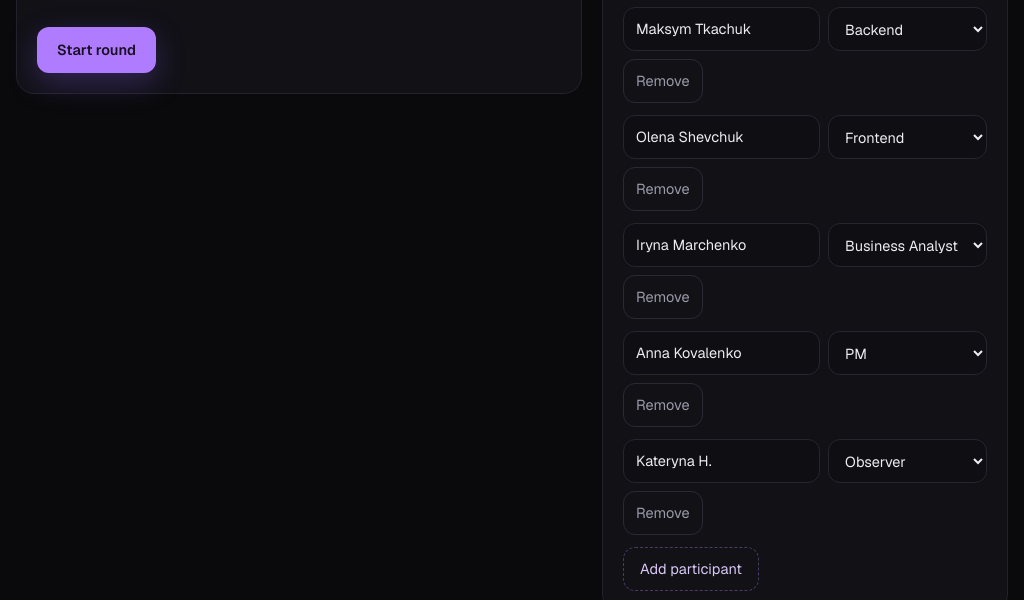
Test: an Observer is configured without a role › keeps an added Observer out of the voting
The width and height of the screenshot is (1024, 600).
(page scrolled)
Click the button "Add participant": [691, 569] box [623,547,759,591]
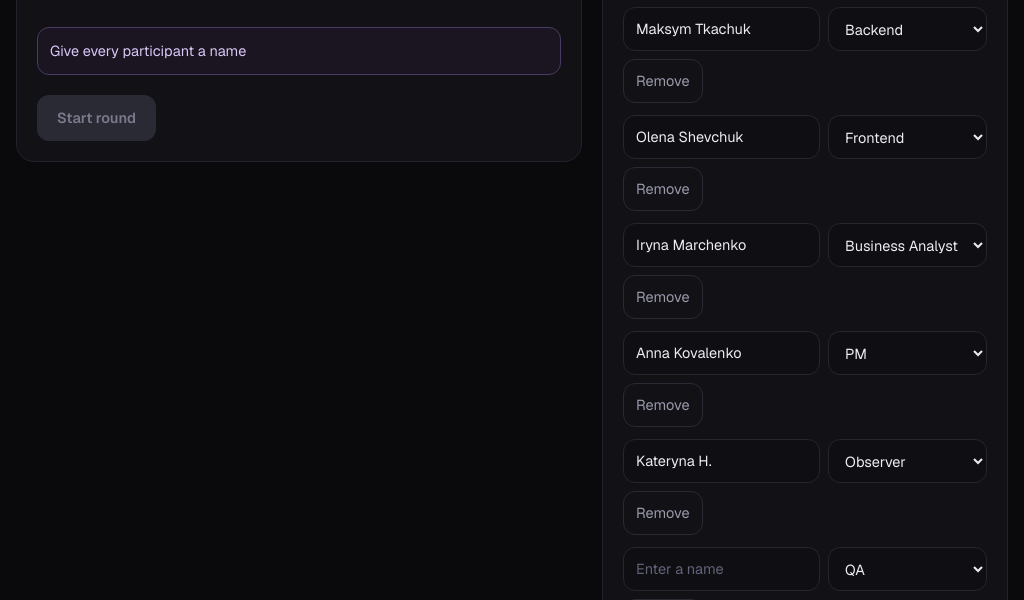
In the field with placeholder "Enter a name": [722, 569] box [623,547,820,591], type "Ivan Petrenko"
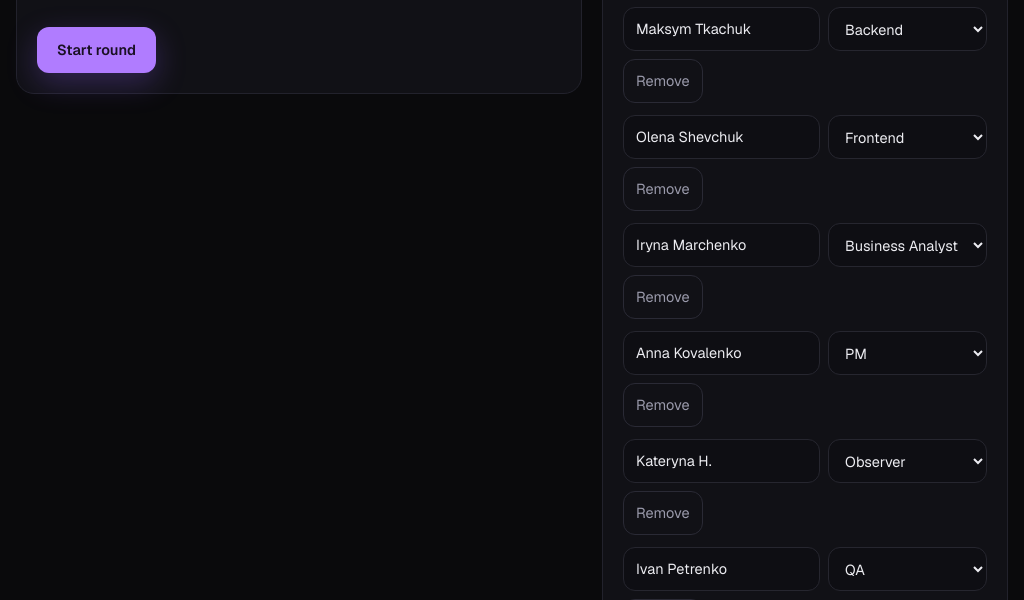
Select "Observer" in the dropdown named "Part for Ivan Petrenko": [908, 569] box [828,547,987,591]
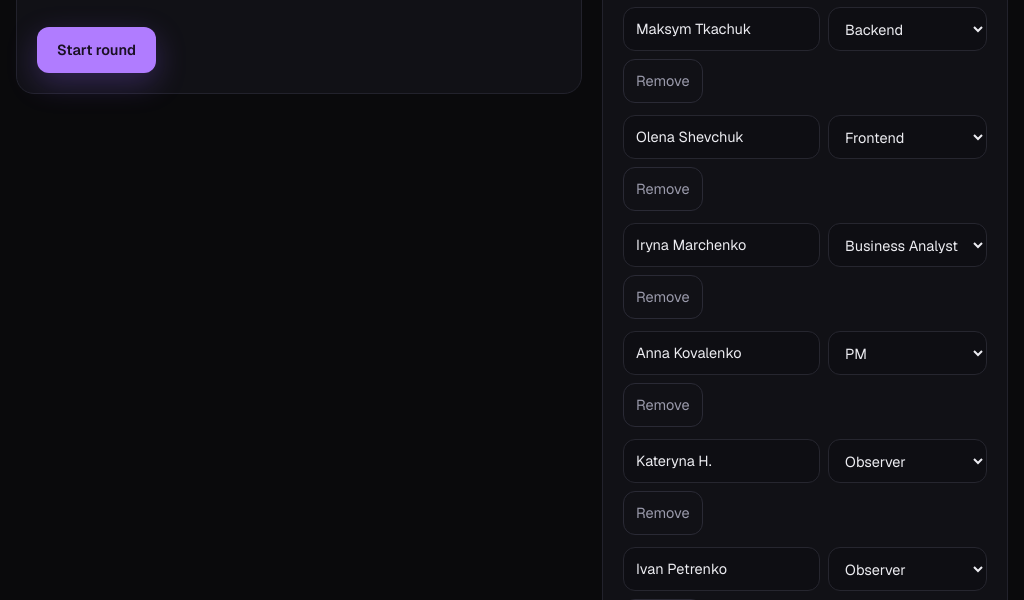
Click the button "Start round": [96, 50] box [37,27,156,73]
(page scrolled)
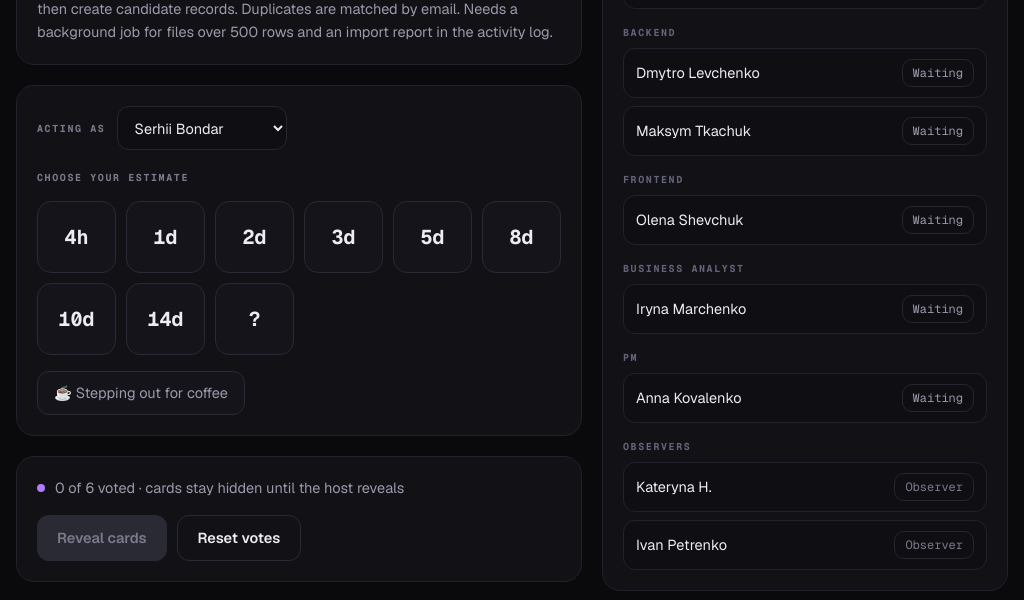
Expected: the option does not show "Ivan Petrenko"
Now the text "0 of 6 voted · cards stay hidden until the host reveals" is shown, box [37,477,404,499]
